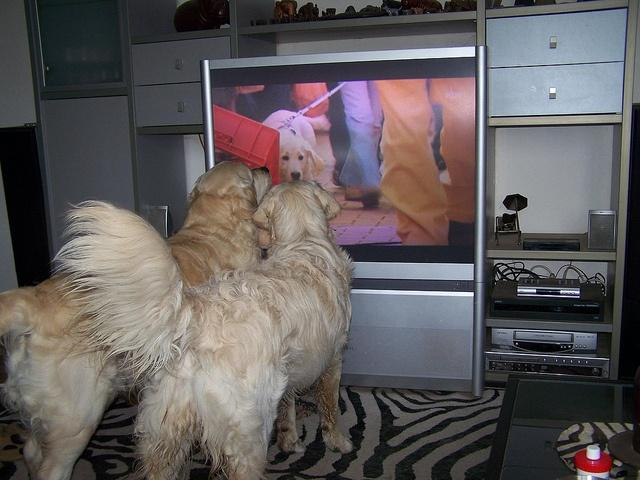AIO PC-Monitor-TV: (208, 45, 476, 281)
